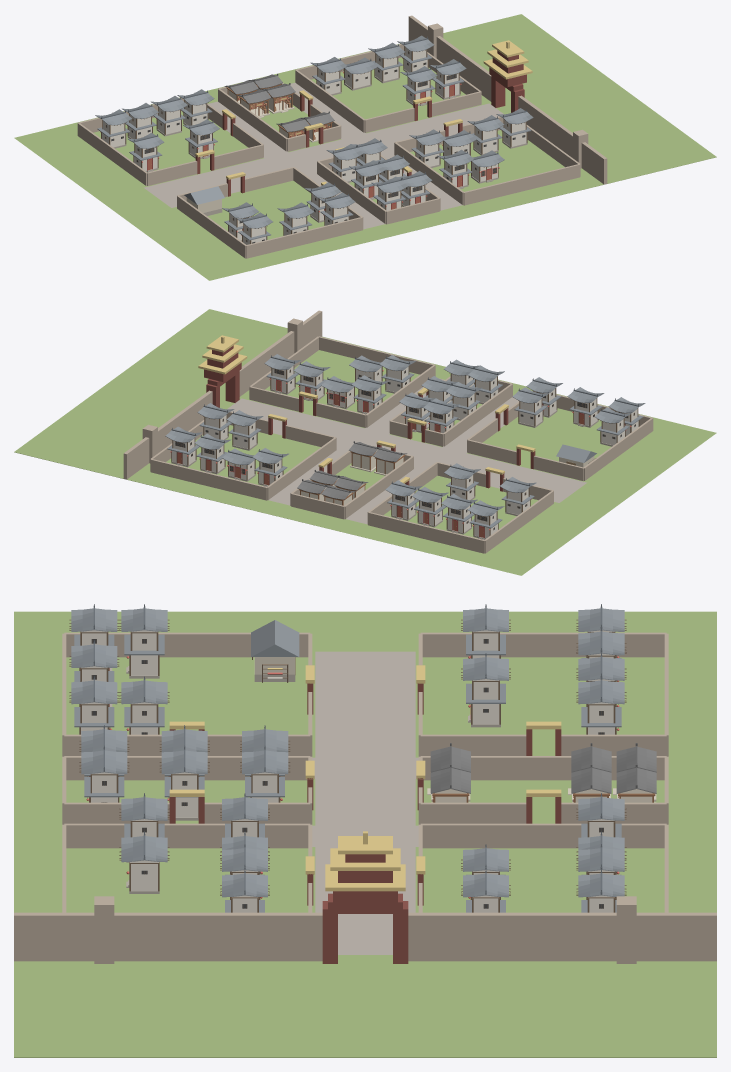
Rendered from Changan_Layout.fbx.
3 renders of one model, top to bottom at view 1: azimuth 30°, elevation 25°; view 2: azimuth 150°, elevation 25°; view 3: azimuth 270°, elevation 25°, orthographic. The views are drawn at different scales.
Parts seen in each view (by area): view 1: Ground, Roads, Wall_South, FANG_SE_WS_5, Wall_North, FANG_SW_WS_28, FANG_NW_WW_25, FANG_SW_WW_31, FANG_NE_WW_3, FANG_NM_WW_13, FANG_SM_WW_19, Decor_Housing_EastAsia_02_02 (+42 smaller); view 2: Ground, Roads, Wall_North, Wall_South, FANG_NE_WN_2, FANG_NW_WN_24, FANG_SE_WS_5, FANG_NW_WW_25, FANG_SW_WW_31, FANG_NE_WW_3, FANG_SM_WW_19, FANG_NM_WW_13 (+42 smaller); view 3: Ground, Roads, Wall_North, Wall_South, FANG_NE_WW_3, FANG_NW_WW_25, FANG_SE_WW_8, FANG_SW_WW_31, FANG_NM_WW_13, Decor_Housing_EastAsia_02_32, FANG_SM_WW_19, Decor_Housing_EastAsia_02_26 (+49 smaller).
Part boxes in pixels (x1,y1,x2,y2): Ground: (14,14,716,280); Roads: (144,82,503,229); Wall_South: (518,95,607,184); FANG_SE_WS_5: (463,164,580,205); Wall_North: (408,15,491,101); FANG_SW_WS_28: (246,217,362,258); FANG_NW_WW_25: (77,123,147,185); FANG_SW_WW_31: (177,195,246,258); FANG_NE_WW_3: (295,70,364,132); FANG_NM_WW_13: (218,89,287,151); FANG_SM_WW_19: (317,161,386,224); Decor_Housing_EastAsia_02_02: (429,59,466,99); Ground: (14,309,716,575); Roads: (227,378,586,524); Wall_North: (123,390,212,479); Wall_South: (239,310,322,396); FANG_NE_WN_2: (150,459,267,500); FANG_NW_WN_24: (368,512,484,553); FANG_SE_WS_5: (318,336,434,374); FANG_NW_WW_25: (484,490,553,553); FANG_SW_WW_31: (583,418,653,480); FANG_NE_WW_3: (267,437,336,500); FANG_SM_WW_19: (443,384,512,446); FANG_NM_WW_13: (344,456,413,519); Ground: (14,611,716,1057); Roads: (312,651,418,954); Wall_North: (408,912,716,961); Wall_South: (14,912,322,961); FANG_NE_WW_3: (420,823,666,848); FANG_NW_WW_25: (420,632,666,657); FANG_SE_WW_8: (64,823,310,848); FANG_SW_WW_31: (64,632,310,657); FANG_NM_WW_13: (420,756,666,780); Decor_Housing_EastAsia_02_32: (119,604,169,678); FANG_SM_WW_19: (64,756,310,780); Decor_Housing_EastAsia_02_26: (461,653,510,727).
Bounding box in the file's own units: 10500 × 1405 × 7000.
